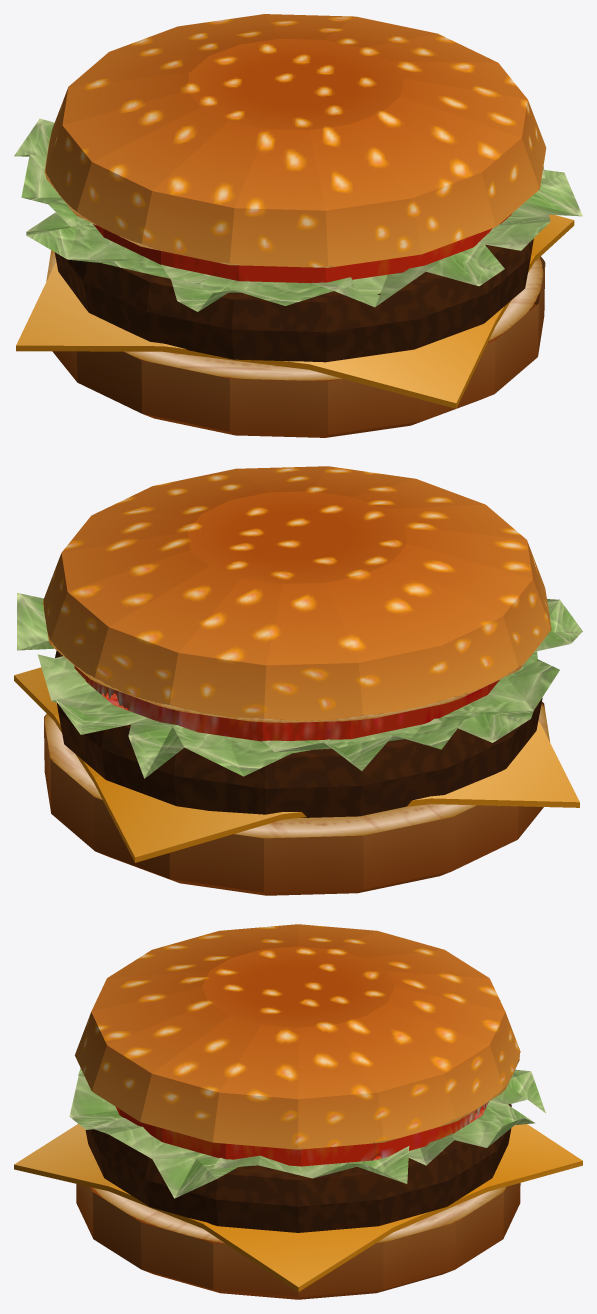
The model's file is hamburguesa_04.obj.
3 views of the same model, one above another, from view 1: azimuth 30°, elevation 25°; view 2: azimuth 150°, elevation 25°; view 3: azimuth 270°, elevation 25° (orthographic). The views are drawn at different scales.
Bounding box in the file's own units: 31.66 × 14.12 × 31.65.
5 materials, 5 textured.
